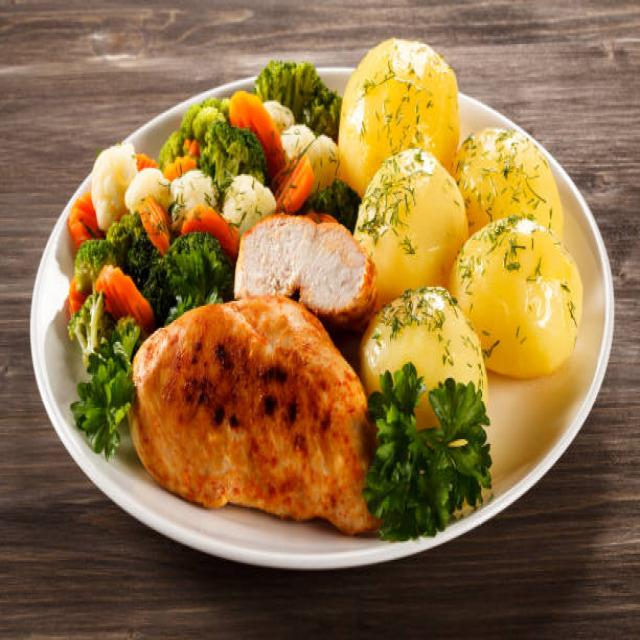Frango: (113, 286, 382, 538)
